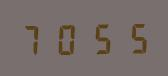five: (84, 19, 116, 55), (117, 19, 149, 54)
seven: (18, 21, 50, 56)
zero: (51, 20, 83, 56)
